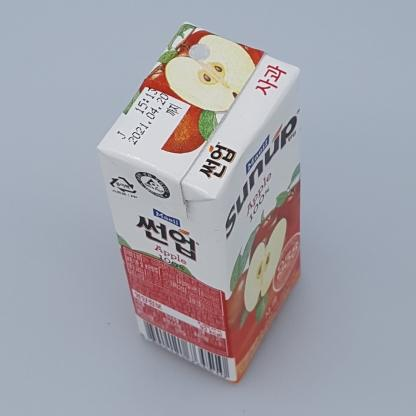-----------200ML: (96, 21, 301, 384)
